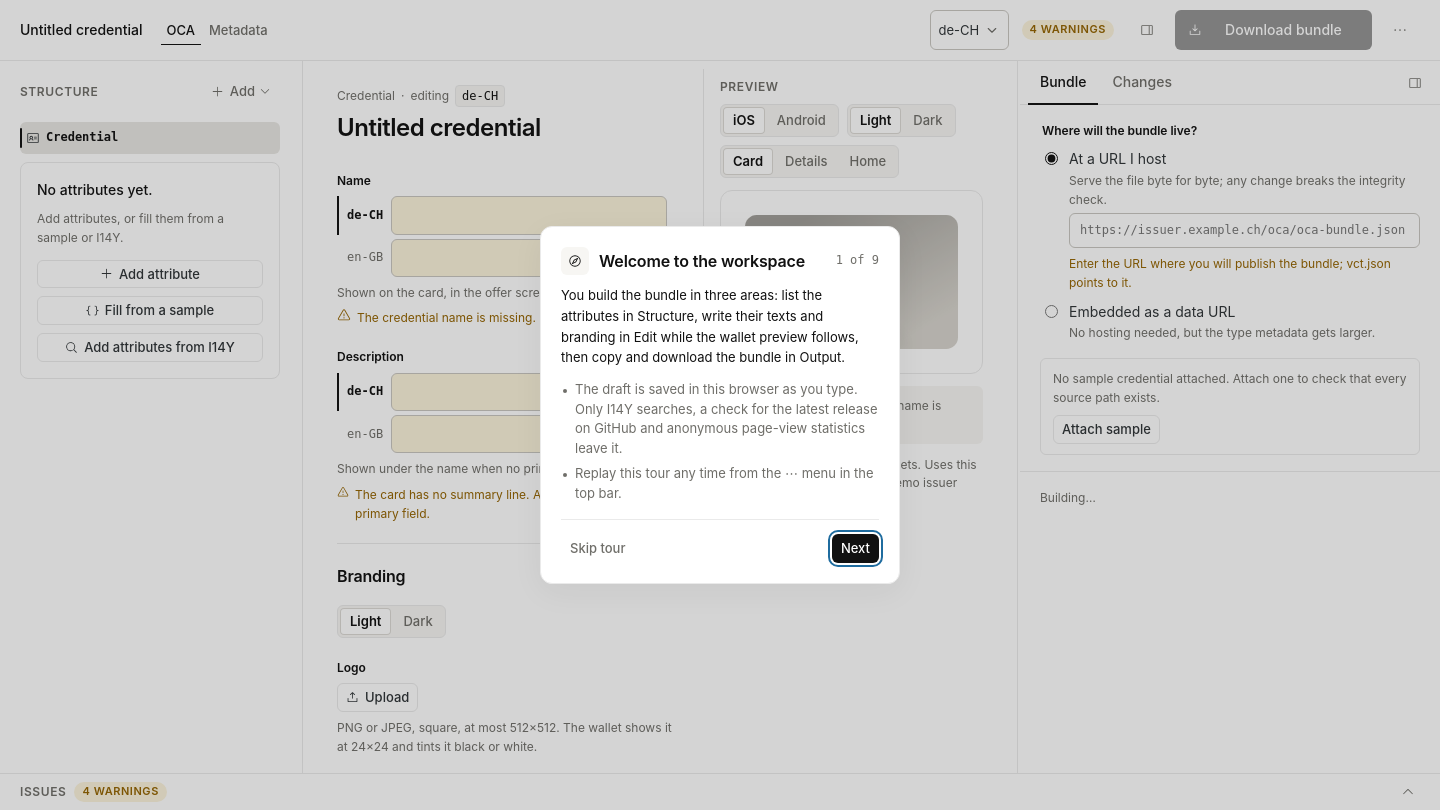
Test: Tour › lights up the wallet preview for its step, in the Edit pane
What coordinates should you click on to do the following:
click the button "Next"
I would click on:
 (855, 549)
Its box is [832,534,879,563].
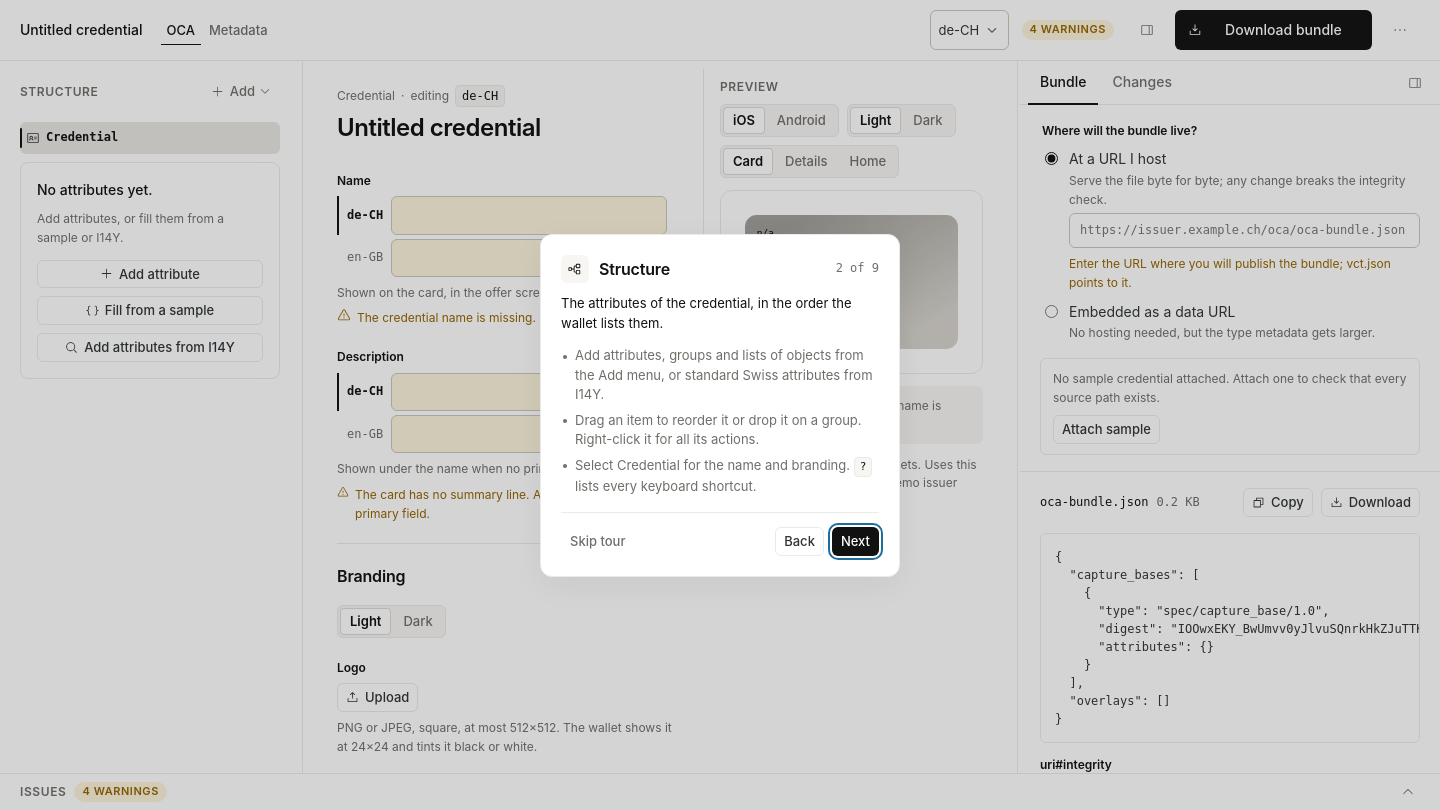
What coordinates should you click on to do the following:
click the button "Next"
I would click on:
 (855, 542)
Its box is [832,527,879,556].
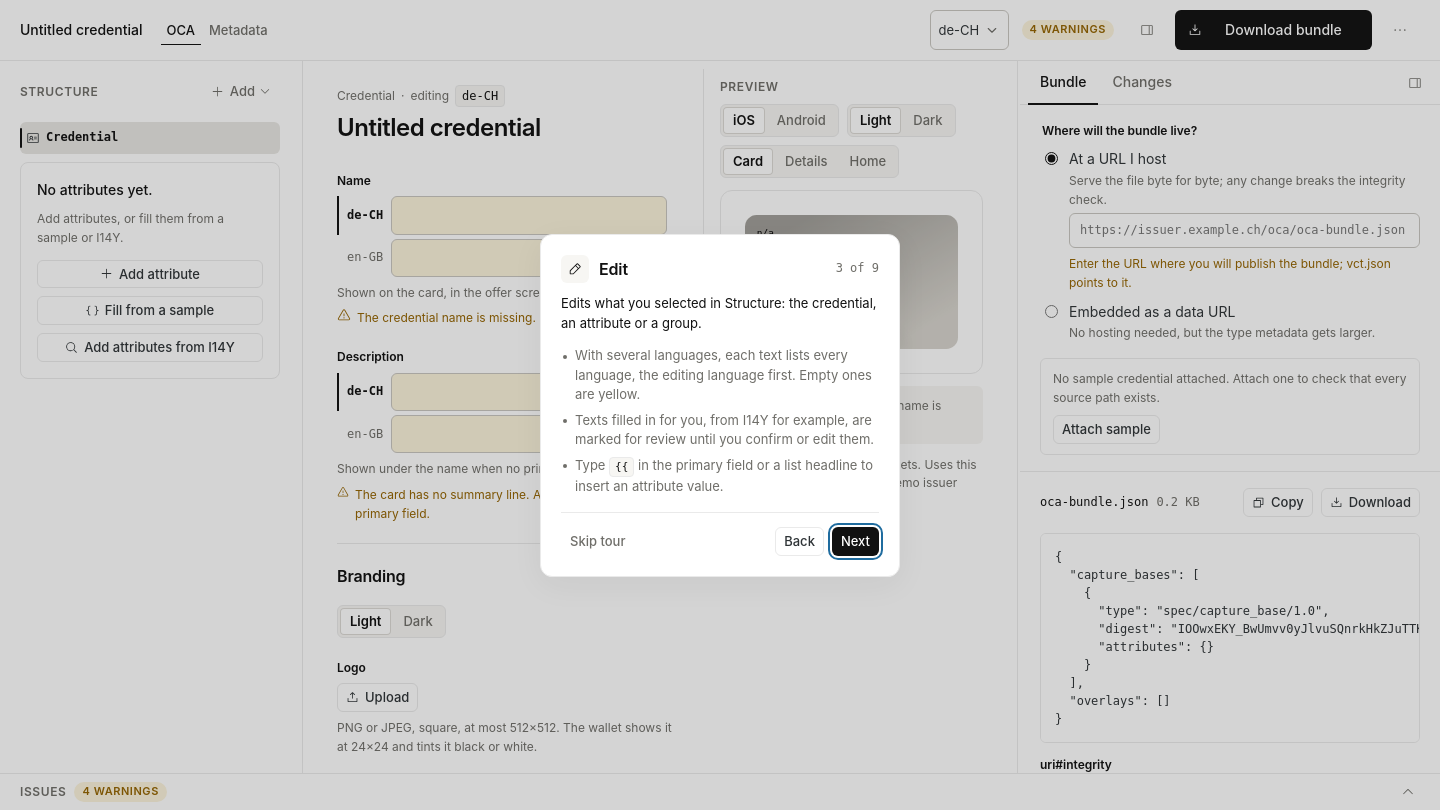
What coordinates should you click on to do the following:
click the button "Next"
I would click on:
 (855, 542)
Its box is [832,527,879,556].
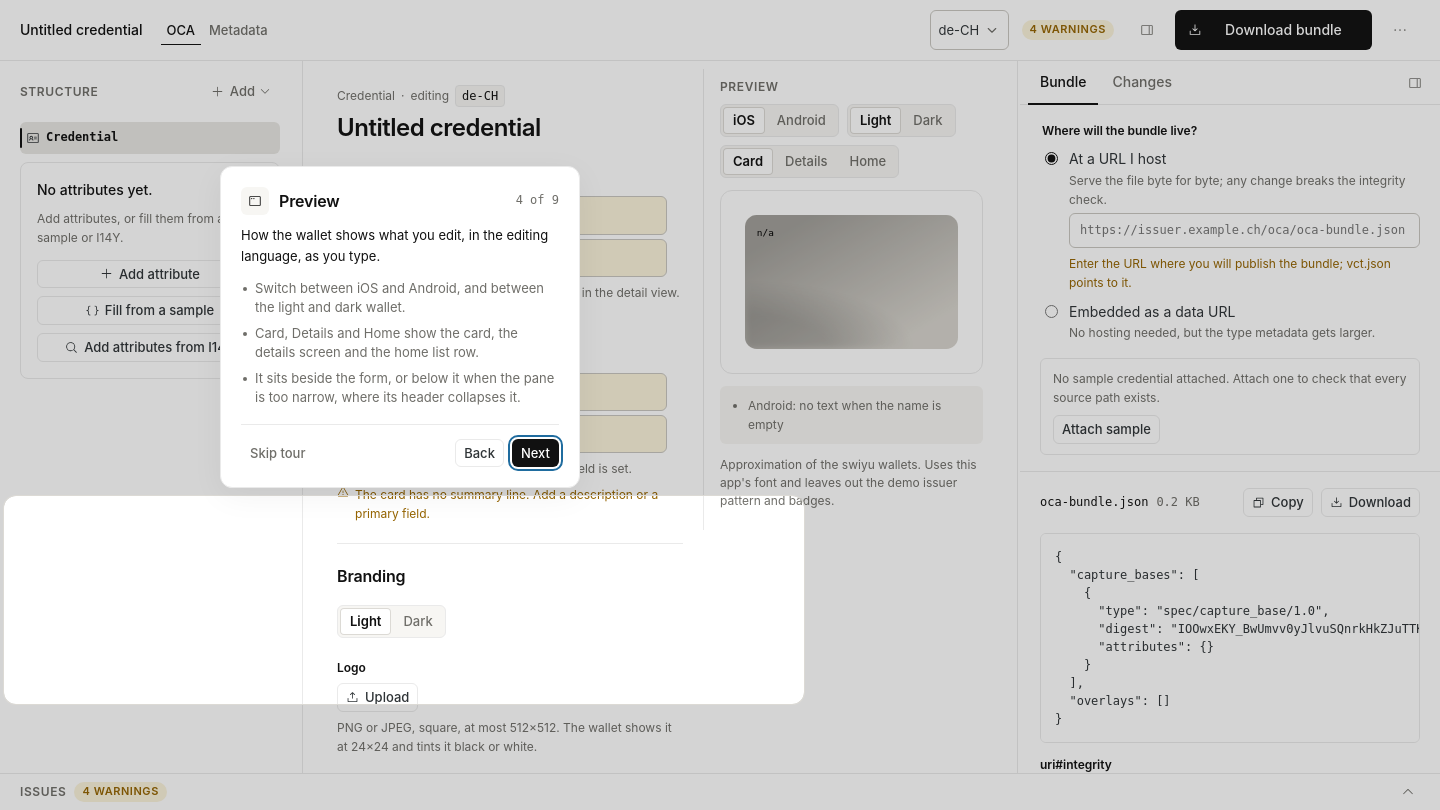
Check: the element named "Preview platform" is shown, box [720,104,839,137]
Check: the element with class "tour__spotlight" is shown, box [4,496,804,704]
